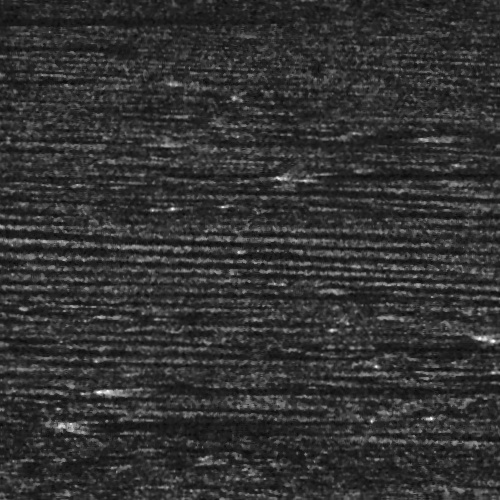object: (37, 382, 172, 397), (20, 415, 93, 428), (431, 133, 500, 138), (469, 329, 500, 340), (285, 172, 348, 177), (8, 497, 71, 500), (160, 139, 191, 144)
shadow: (104, 382, 500, 397), (56, 415, 342, 428), (0, 12, 251, 23), (176, 139, 500, 144), (0, 37, 99, 50), (316, 172, 500, 177), (0, 73, 109, 78), (39, 497, 182, 500), (468, 133, 500, 138)
